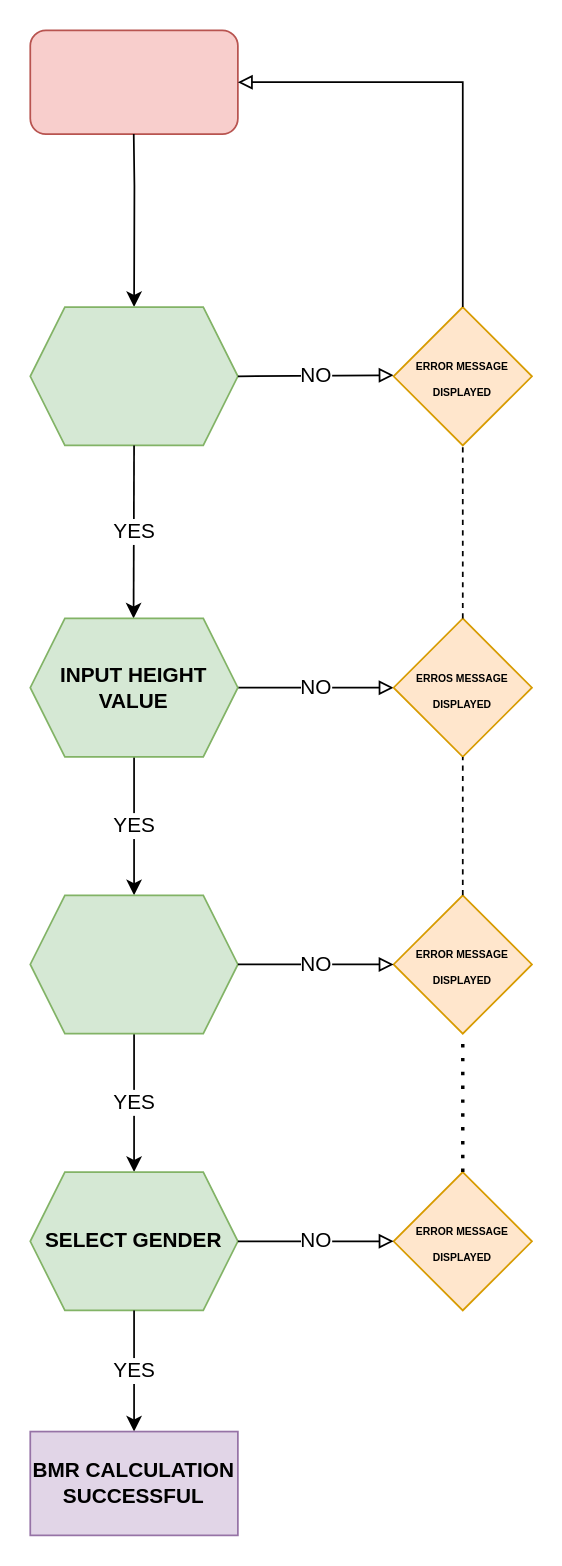
Image size: 562x1566. Some labels were removed from this diagram. The shapes that lost their labels are listed below. From the top down, each one's centre as x and y in pixels, then its label:
At [133,81]: "WELCOME".
At [133,375]: "INPUT AGE VALUE".
At [133,964]: "INPUT WEIGHT VALUE".
